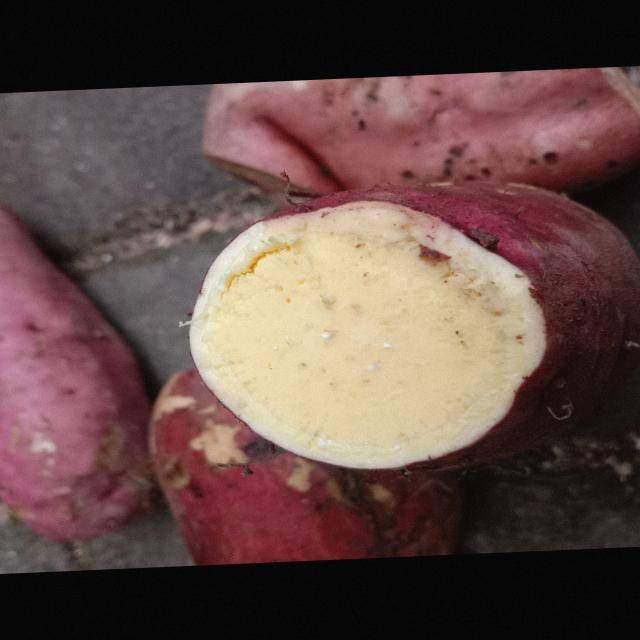Healthy Sweet Potato: (192, 201, 545, 469)
